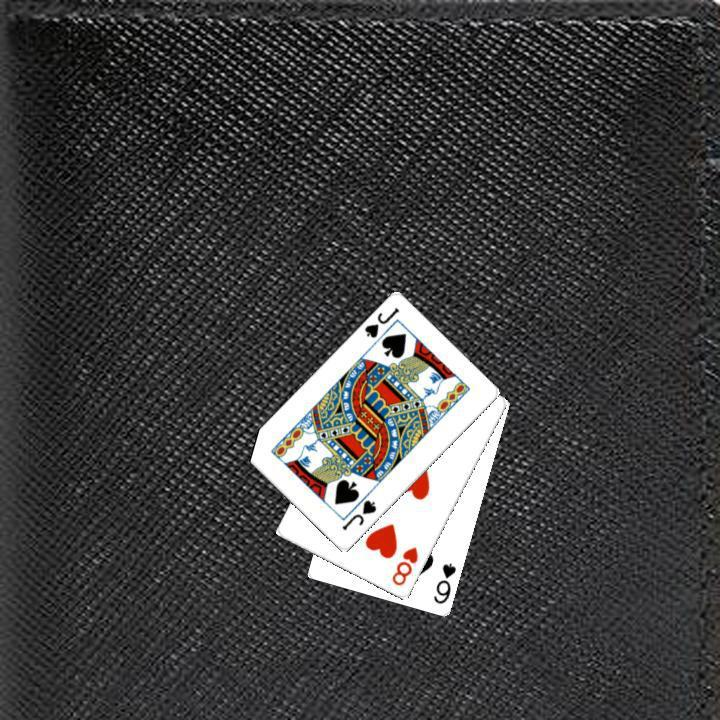6: (429, 559, 458, 606)
8: (388, 543, 420, 588)
J: (360, 303, 401, 341), (337, 496, 379, 533)
